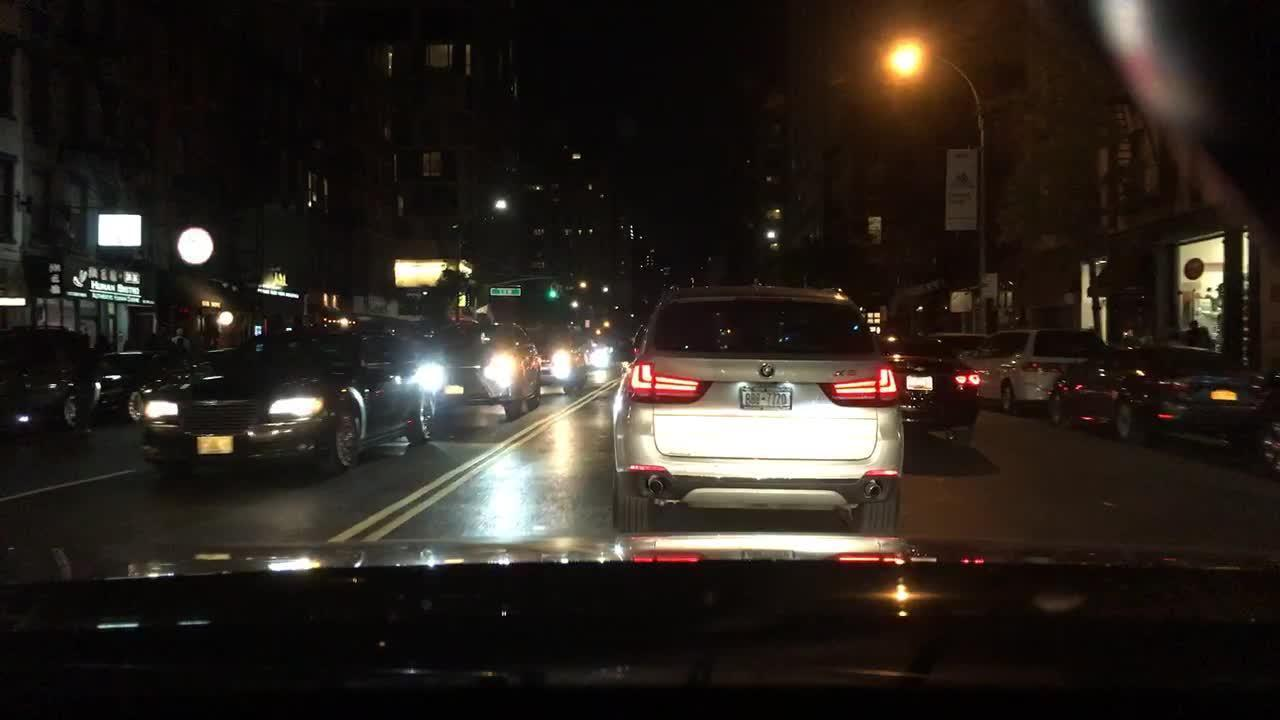bmw: (753, 358, 782, 382)
